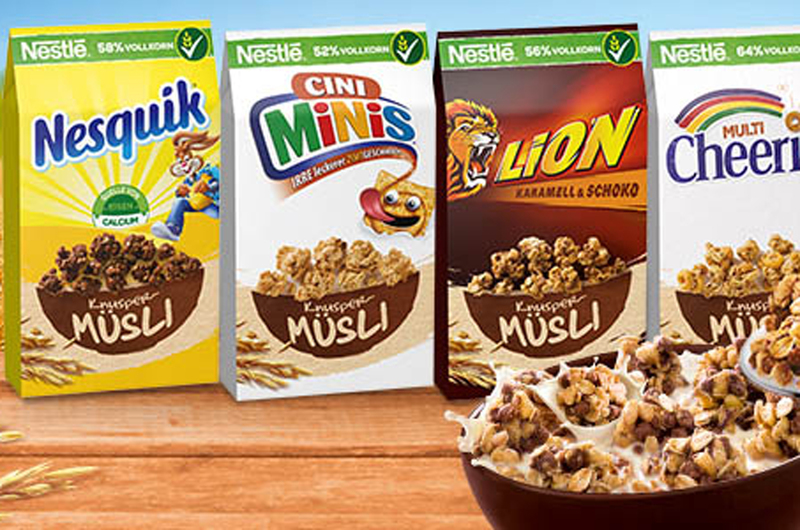cereals: (433, 21, 653, 399)
